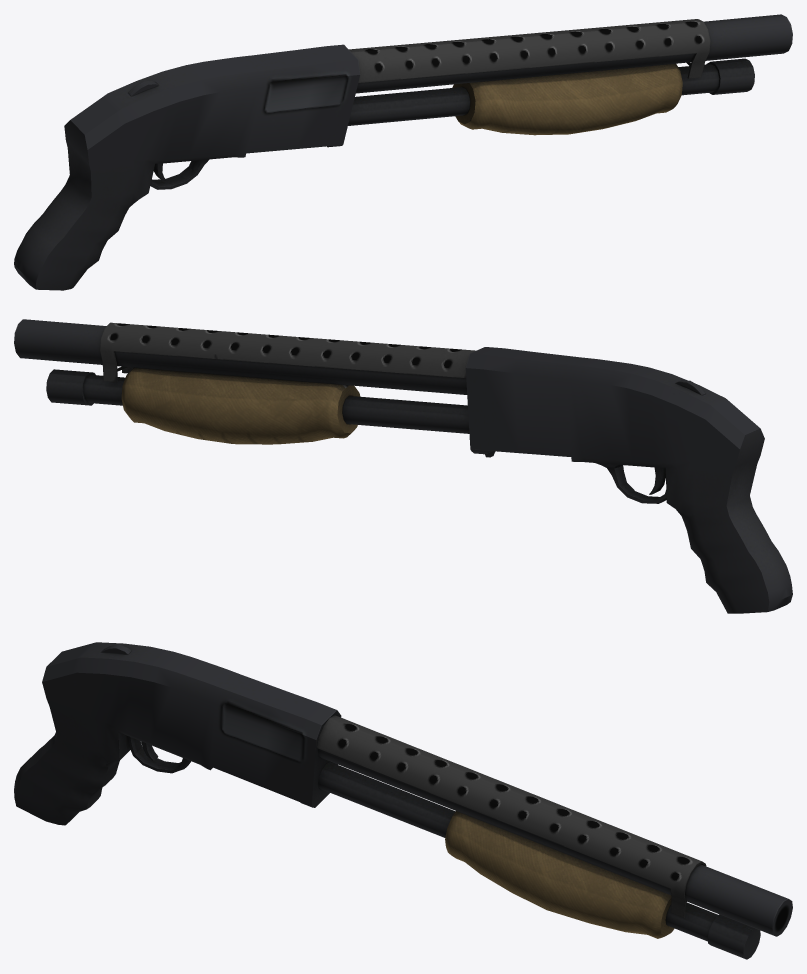
File: shotgun_000032.obj
3 views of the same model, one above another, from view 1: azimuth 30°, elevation 25°; view 2: azimuth 150°, elevation 25°; view 3: azimuth 330°, elevation 25° (orthographic). The views are drawn at different scales.
Parts seen in each view (by area): view 1: mesh_Cube.001; view 2: mesh_Cube.001; view 3: mesh_Cube.001.
Part boxes in pixels (<box>): mesh_Cube.001: <box>14,14,792,290</box>; mesh_Cube.001: <box>14,319,792,613</box>; mesh_Cube.001: <box>14,642,792,959</box>.
Bounding box in the file's own units: 1.94 × 0.4863 × 0.1727.
Materials: 1 (1 with a texture image).
